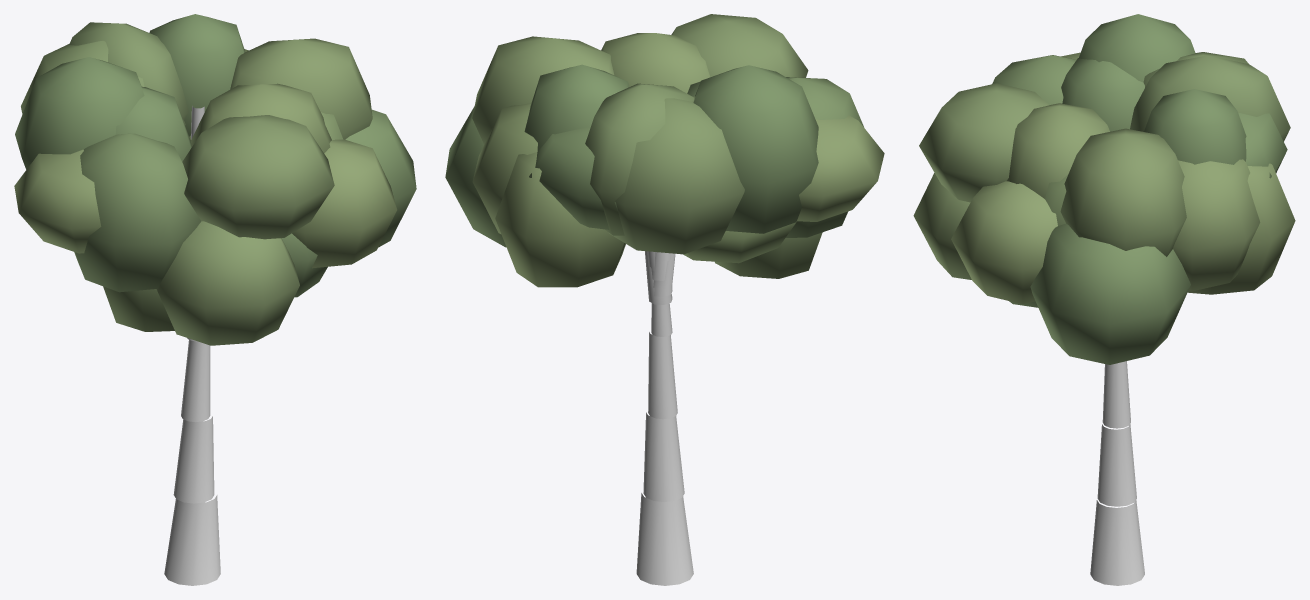
File: oak_v1_near.gltf
The picture shows the model from 3 angles, left to right: view 1: azimuth 30°, elevation 25°; view 2: azimuth 150°, elevation 25°; view 3: azimuth 270°, elevation 25°; orthographic projection. The views are drawn at different scales.
Visible parts, largest first — view 1: foliage, bark; view 2: foliage, bark; view 3: foliage, bark.
Boxes of the visible parts, x1,y1,x2,y2 form: foliage: (14, 14, 416, 345); bark: (164, 106, 220, 585); foliage: (445, 14, 884, 287); bark: (636, 251, 693, 585); foliage: (913, 14, 1295, 364); bark: (1090, 361, 1144, 585).
Bounding box in the file's own units: 4.34 × 5.4 × 3.62.
